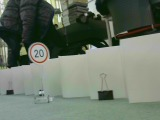speed_20: (27, 42, 50, 65)
